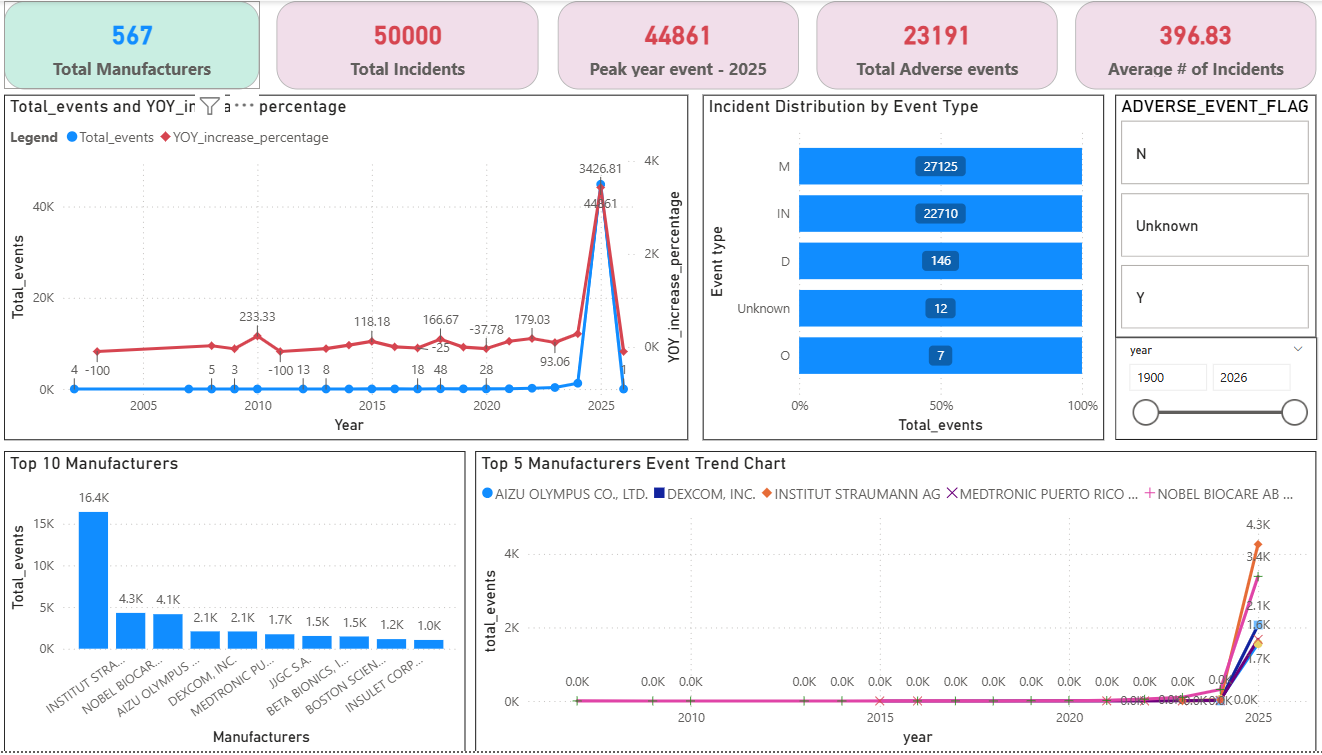

What the dashboard file says about the page in this screenshot:
{"tool":"powerbi","page":{"name":"Dashboard","canvas":[1280,720],"ordinal":0},"visuals":[{"type":"card","fields":{"Values":["maude_t.total_events"]},"box":[271.2,0,251.2,85],"z":0},{"type":"lineChart","title":"Total_events and YOY_increase_percentage","fields":{"Category":["calender.year"],"Y":["maude_t.total_events"],"Y2":["maude_t.YOY_increase_percentage"]},"box":[10,90,656.2,331.2],"z":1000},{"type":"columnChart","title":"Top 10 Manufacturers","fields":{"Category":["maude_t.MANUFACTURER_G1_NAME"],"Y":["maude_t.total_events"]},"box":[10,431.2,442.5,288.8],"z":2000},{"type":"card","fields":{"Values":["maude_t.Total_manufacturers"]},"box":[10,0,245,85],"z":3000},{"type":"card","fields":{"Values":["maude_t.peak_year_event"]},"box":[540,0,231.2,85],"z":4000},{"type":"hundredPercentStackedBarChart","title":"Incident Distribution by Event Type","fields":{"Category":["maude_t.EVENT_TYPE"],"Y":["maude_t.total_events"]},"box":[680,90,385,331.2],"z":5000},{"type":"card","fields":{"Values":["maude_t.Total_Adverse_events"]},"box":[788.8,0,231.2,85],"z":6000},{"type":"card","fields":{"Values":["maude_t.Average_incidents"]},"box":[1036.2,0,231.2,85],"z":7000},{"type":"lineChart","title":"Top 5 Manufacturers Event Trend Chart","fields":{"Category":["calender.year"],"Y":["maude_t.total_events"],"Series":["maude_t.MANUFACTURER_G1_NAME"]},"box":[461.2,431.2,806.2,288.8],"z":9000},{"type":"slicer","fields":{"Values":["calender.year"]},"box":[1075,322.5,193.8,98.8],"z":9001},{"type":"advancedSlicerVisual","fields":{"Values":["maude_t.ADVERSE_EVENT_FLAG"]},"box":[1075,90,192.5,232.5],"z":9002}]}

Visuals, with their boxes in screenshot pixels (x1, y1, x2, y2), scaled from the page's 1280x720 canvas onto the 1322x755 screenshot:
card - maude_t.total_events: box(280, 0, 540, 89)
"Total_events and YOY_increase_percentage" lineChart: box(10, 94, 688, 442)
"Top 10 Manufacturers" columnChart: box(10, 452, 467, 754)
card - maude_t.Total_manufacturers: box(10, 0, 263, 89)
card - maude_t.peak_year_event: box(558, 0, 797, 89)
"Incident Distribution by Event Type" hundredPercentStackedBarChart: box(702, 94, 1100, 442)
card - maude_t.Total_Adverse_events: box(815, 0, 1053, 89)
card - maude_t.Average_incidents: box(1070, 0, 1309, 89)
"Top 5 Manufacturers Event Trend Chart" lineChart: box(476, 452, 1309, 754)
slicer - calender.year: box(1110, 338, 1310, 442)
advancedSlicerVisual - maude_t.ADVERSE_EVENT_FLAG: box(1110, 94, 1309, 338)
